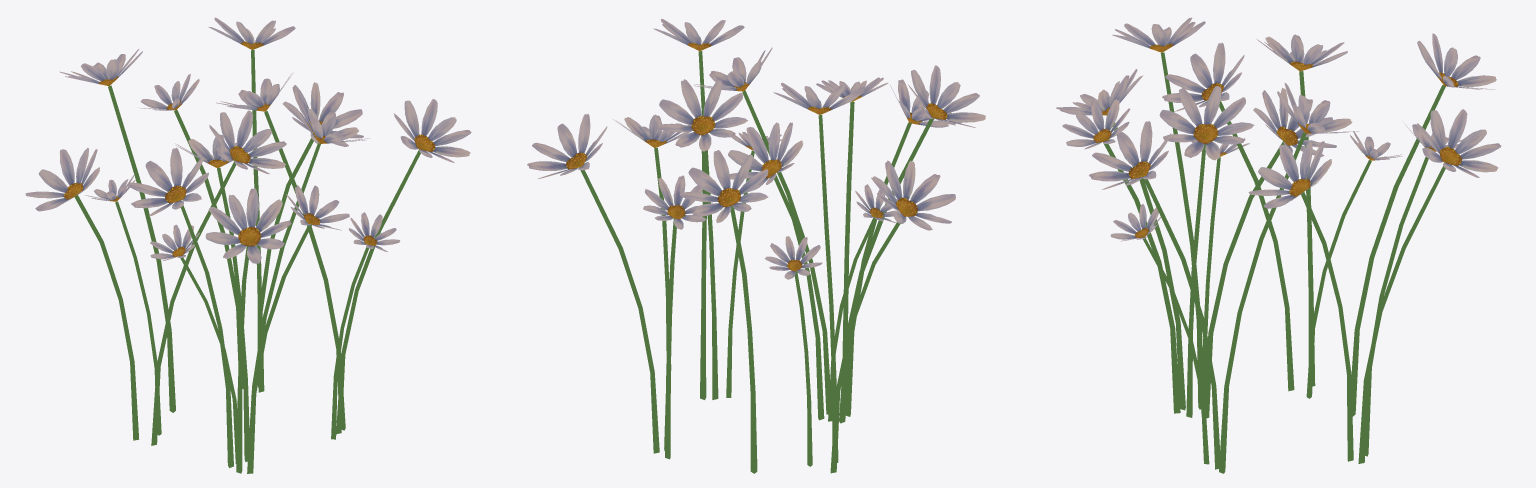
Rendered from MEADOW_SM_Flower_05_03.gltf.
3 views of the same model, side by side, from view 1: azimuth 30°, elevation 25°; view 2: azimuth 150°, elevation 25°; view 3: azimuth 270°, elevation 25° (orthographic). The views are drawn at different scales.
Visible parts, largest first — view 1: SM_Flower_05_03_LOD0; view 2: SM_Flower_05_03_LOD0; view 3: SM_Flower_05_03_LOD0.
Boxes of the visible parts, <box> form: SM_Flower_05_03_LOD0: <box>25,17,471,473</box>; SM_Flower_05_03_LOD0: <box>527,19,985,473</box>; SM_Flower_05_03_LOD0: <box>1056,17,1501,473</box>.
Size of the model in its own units: 0.7447 by 0.6475 by 0.7617.
1 material, 1 textured.
